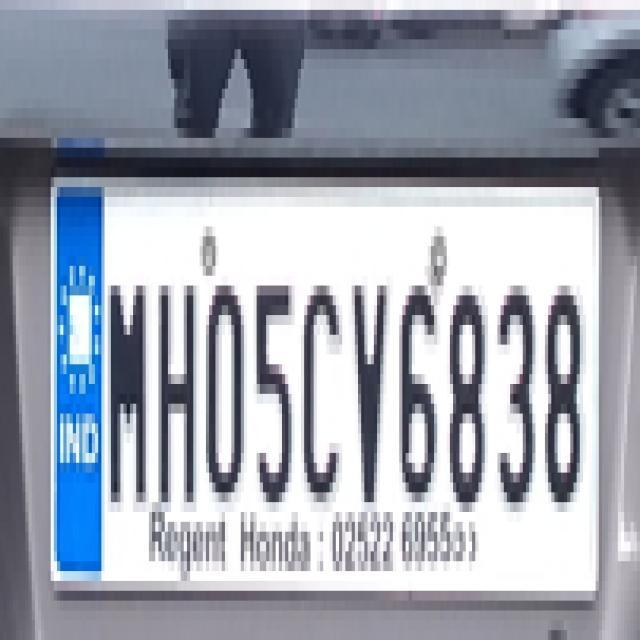0: (198, 268, 248, 509)
3: (492, 270, 538, 504)
5: (252, 274, 300, 540)
6: (398, 278, 444, 509)
8: (544, 278, 586, 524), (446, 278, 490, 506)
C: (299, 276, 345, 496)
H: (154, 256, 204, 520)
M: (105, 268, 151, 512)
V: (348, 268, 392, 510)
